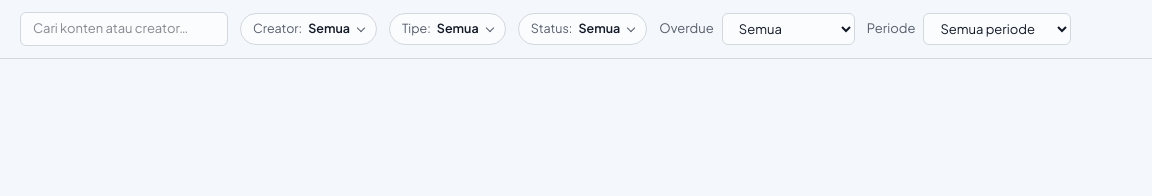
Test: ContentPlanFilters › keeps the first creator when a second is ticked before the URL has changed
The width and height of the screenshot is (1152, 196).
Click the button "Creator: Semua": (308, 29) x1=240 y1=13 x2=377 y2=45
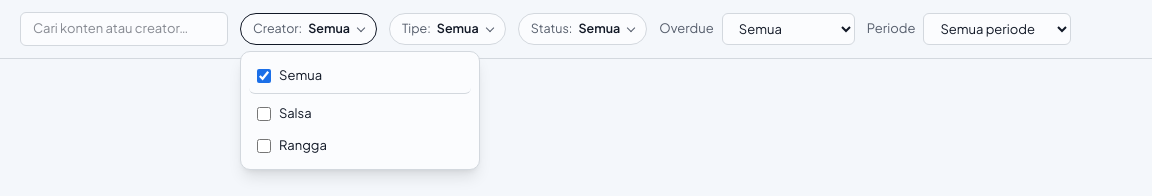
Click the checkbox labelled "Salsa": (264, 114) x1=257 y1=107 x2=271 y2=121
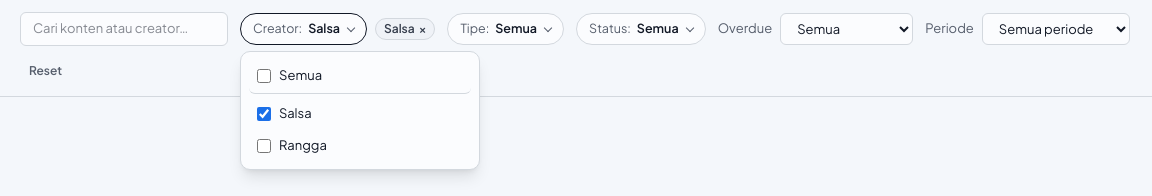
Click the checkbox labelled "Rangga": (264, 146) x1=257 y1=138 x2=271 y2=152
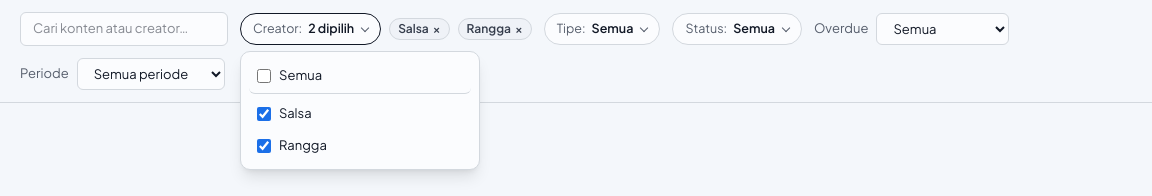
Now the checkbox labelled "Salsa" is checked, box x1=257 y1=107 x2=271 y2=121
Now the button "Creator: 2 dipilih" is shown, box x1=240 y1=13 x2=381 y2=45
